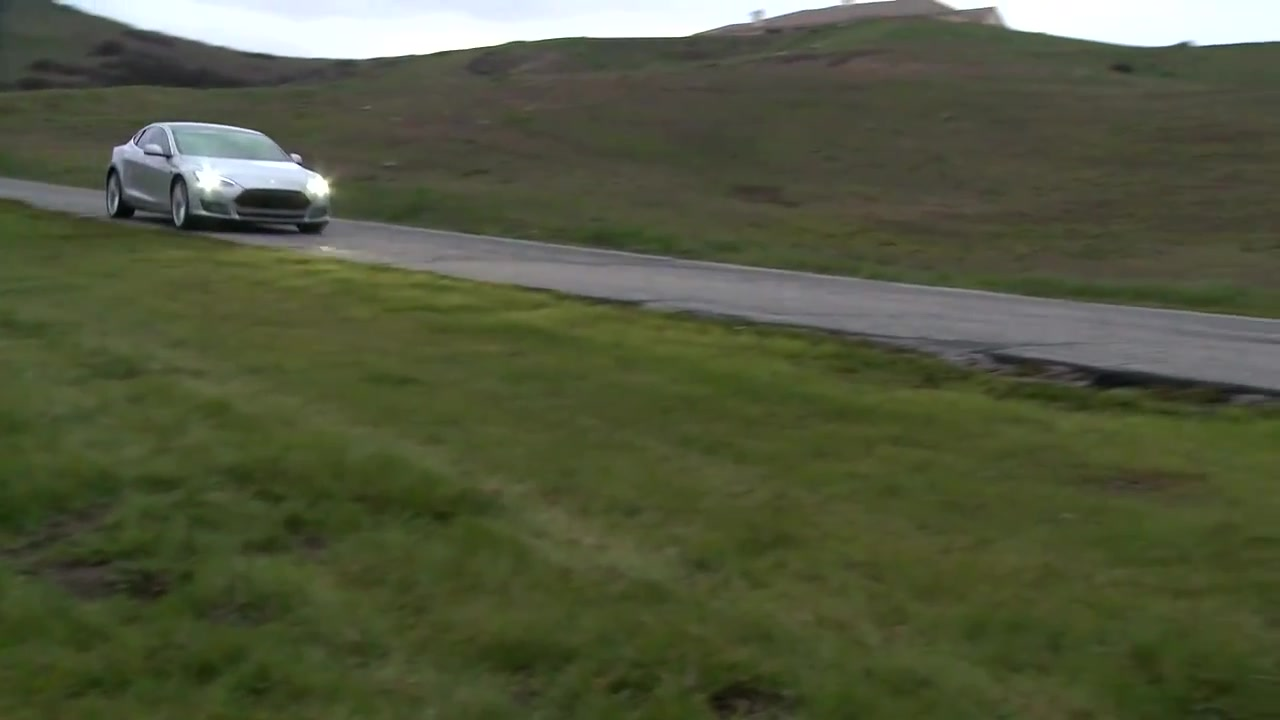car: (104, 116, 335, 238)
